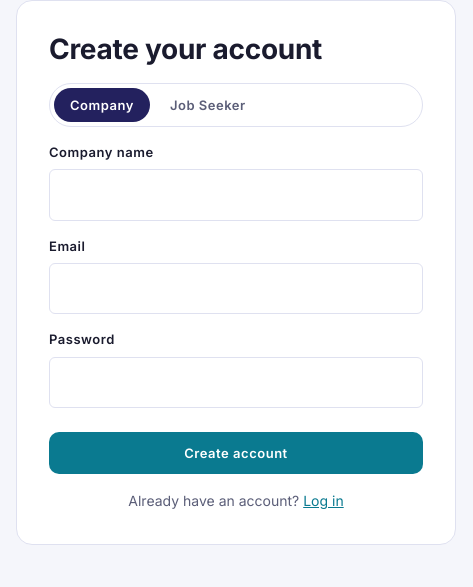
AuthForm › shows the Job Seeker duplicate-email message under the email field on a 409
Step 1. Click the radio button labelled "Job Seeker" → (208, 105), box [154,88,262,122]
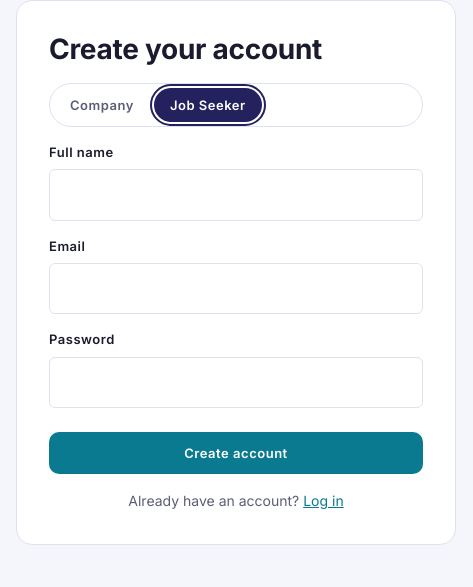
Step 2. Type "Priya Raman" into the field labelled "Full name" → (236, 195), box [49,169,423,221]
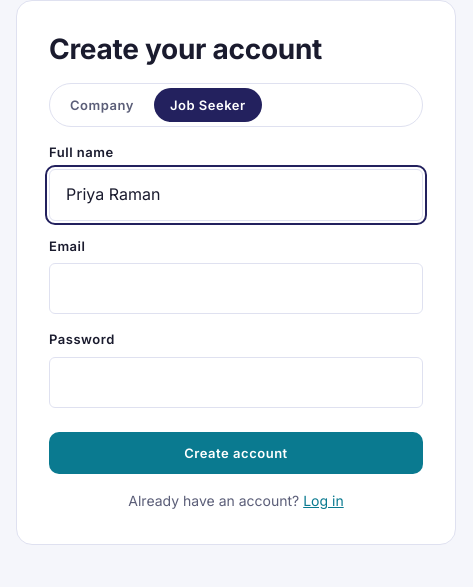
Step 3. Type "taken@seeker.test" into the field labelled "Email" → (236, 289), box [49,263,423,314]
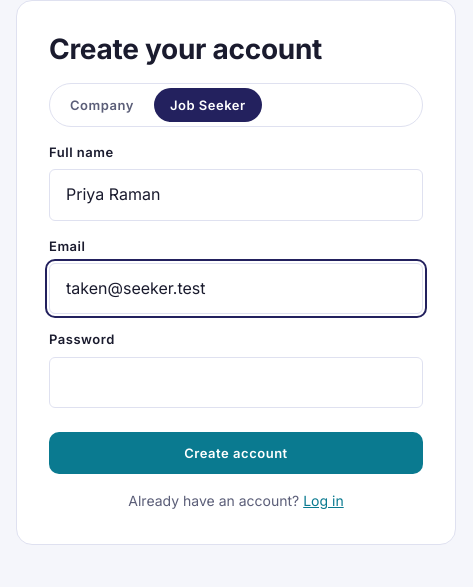
Step 4. Type "password123" into the password field labelled "Password" → (236, 382), box [49,356,423,408]
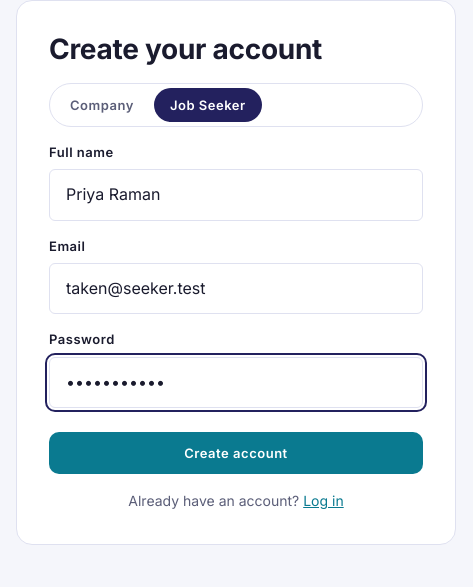
Step 5. Click the button "Create account" → (236, 453), box [49,432,423,474]
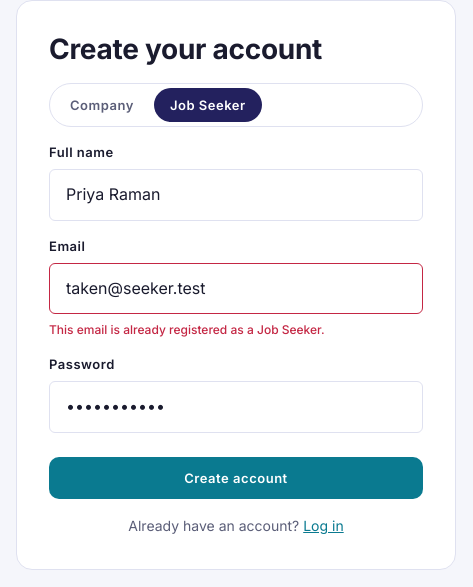
Check: the text "This email is already registered as a Job Seeker." is shown, box [49,322,325,337]
